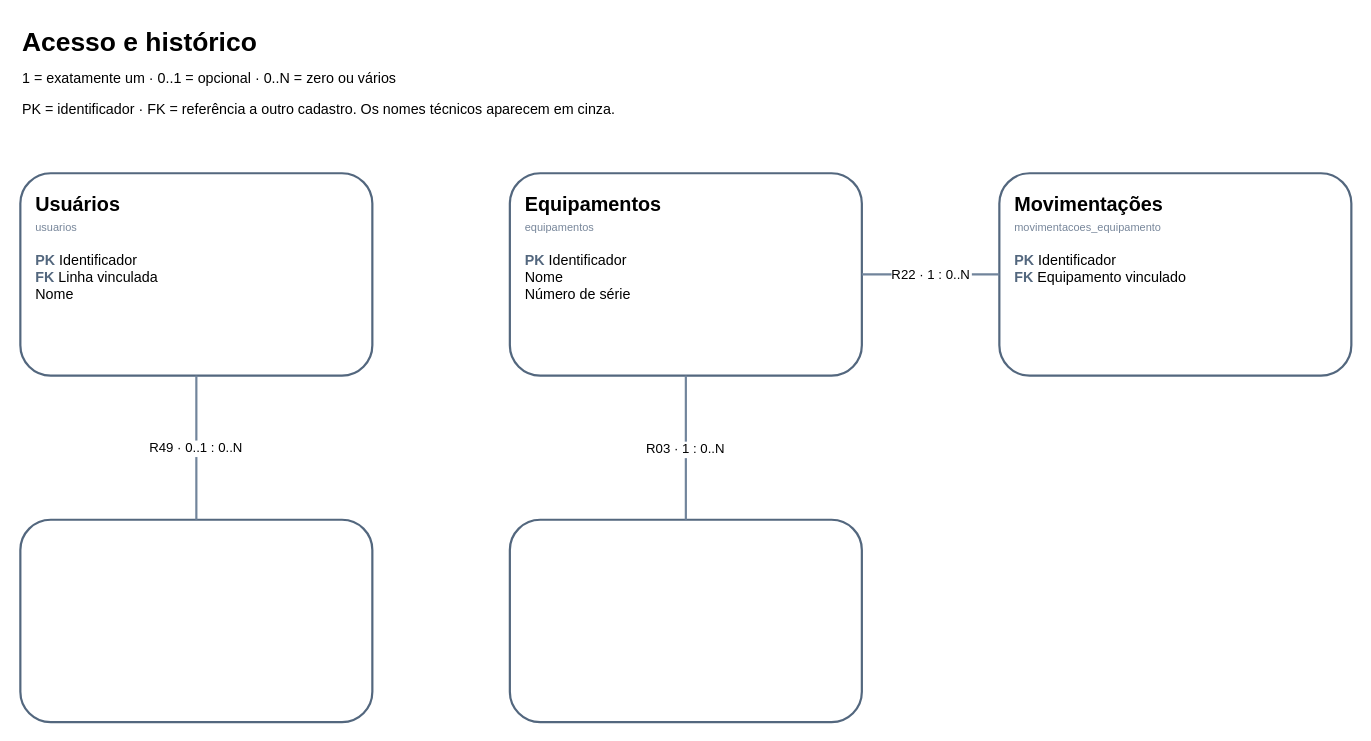
Image size: 1371x741. Some labels were removed from this diagram. The centre of each missing label's shape, as x and y in pixels:
"Fotos e manuais anexos_equipamento PK Identificador FK Equipamento vinculado" goes at (x=685, y=620).
"Linhas de produção linhas PK Identificador Nome Código" goes at (x=196, y=620).
